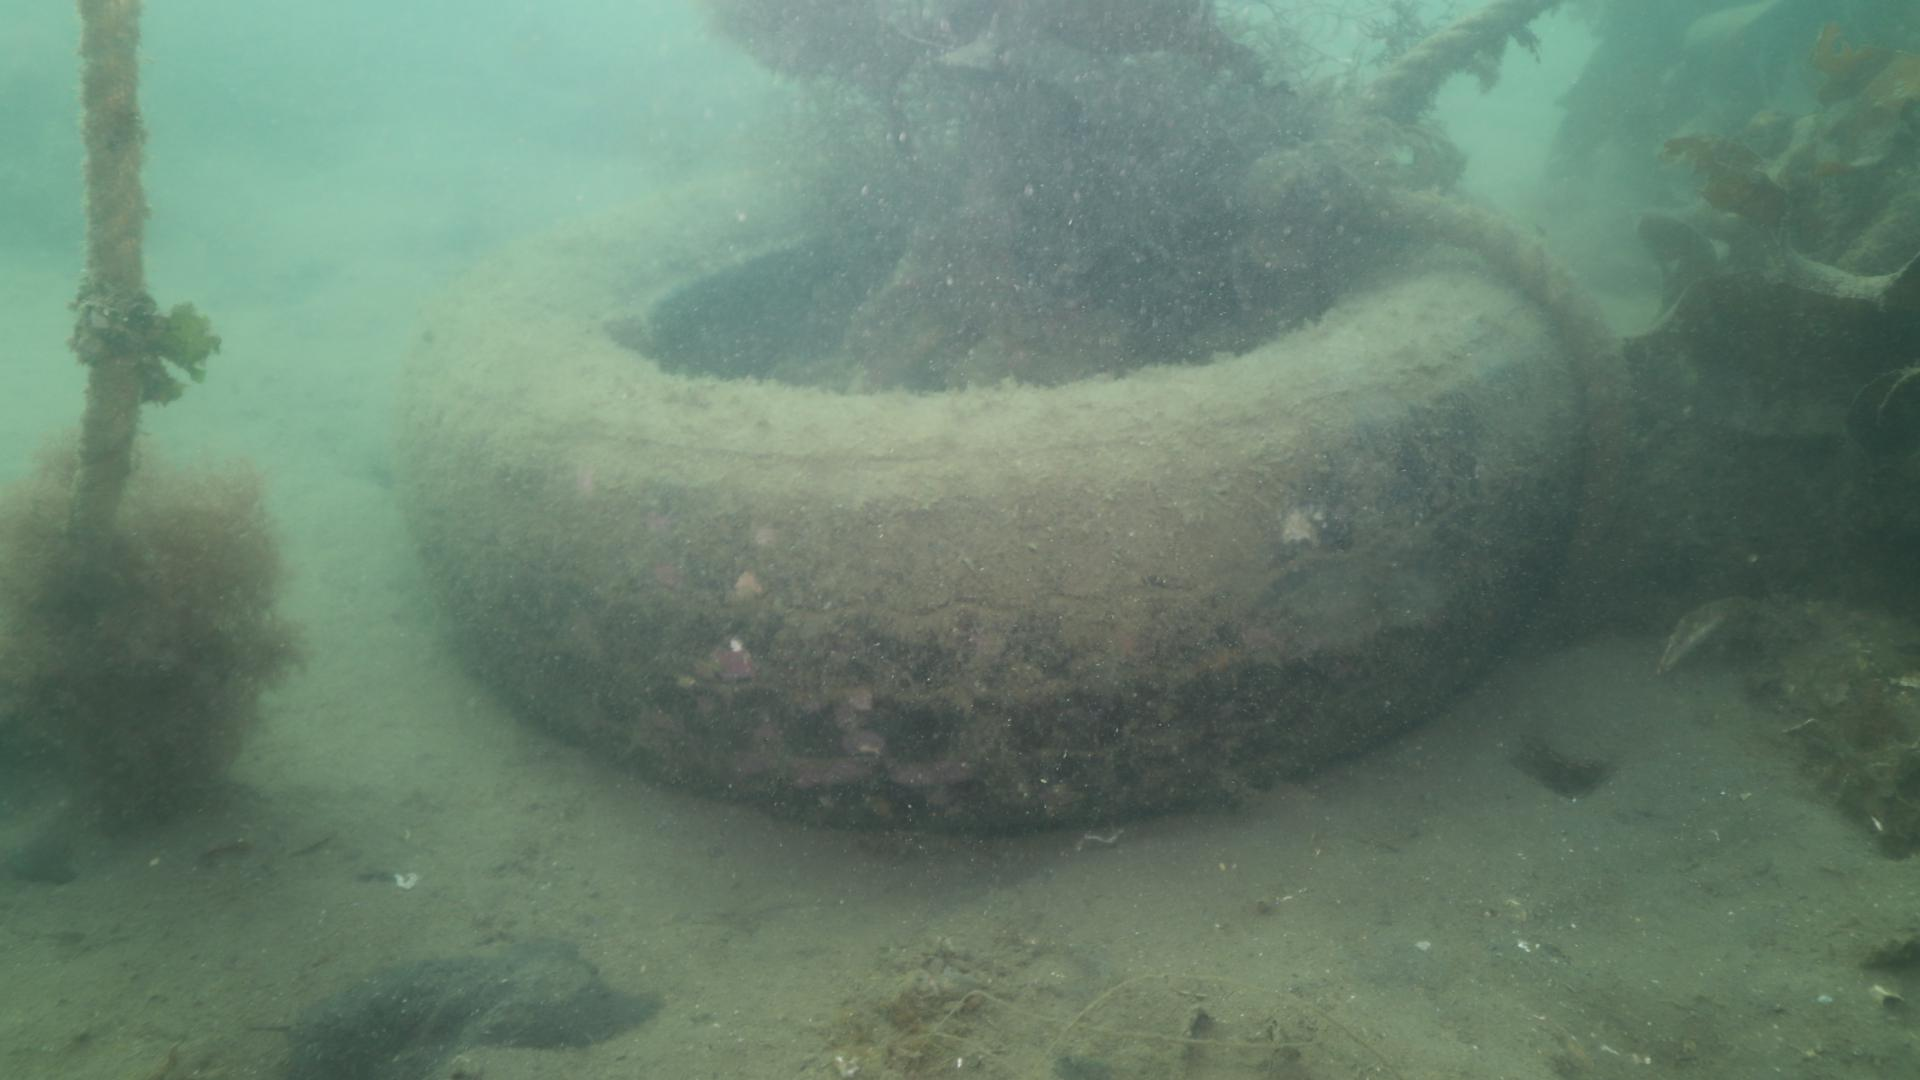rope: (1325, 0, 1640, 655), (73, 0, 149, 535)
tire: (389, 169, 1588, 841)
